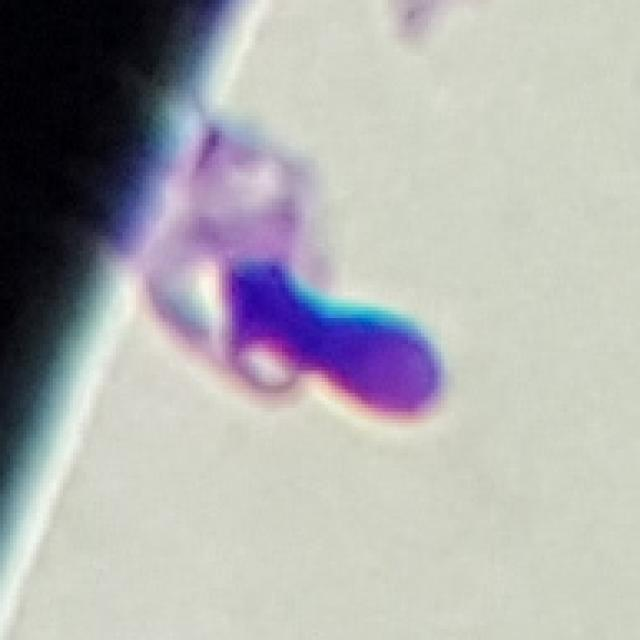abnormal sperm: (197, 249, 471, 441)
